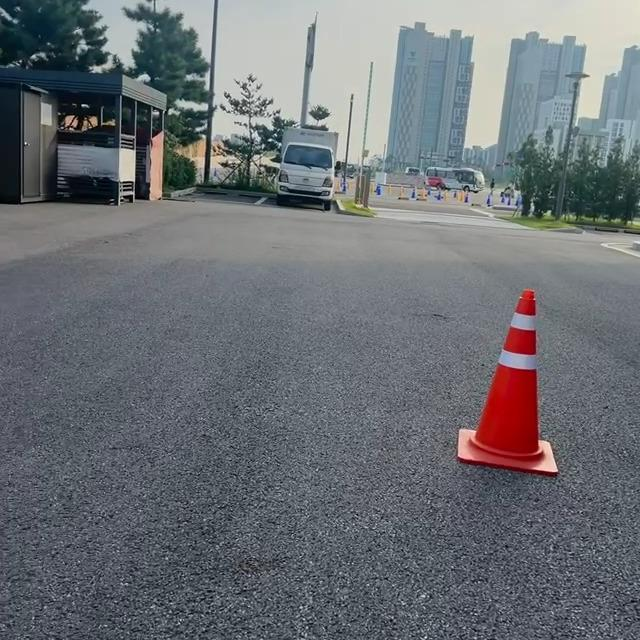fallen_object: (445, 285, 589, 483)
